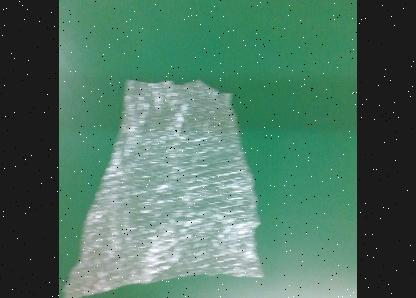Others: (60, 79, 265, 298)
